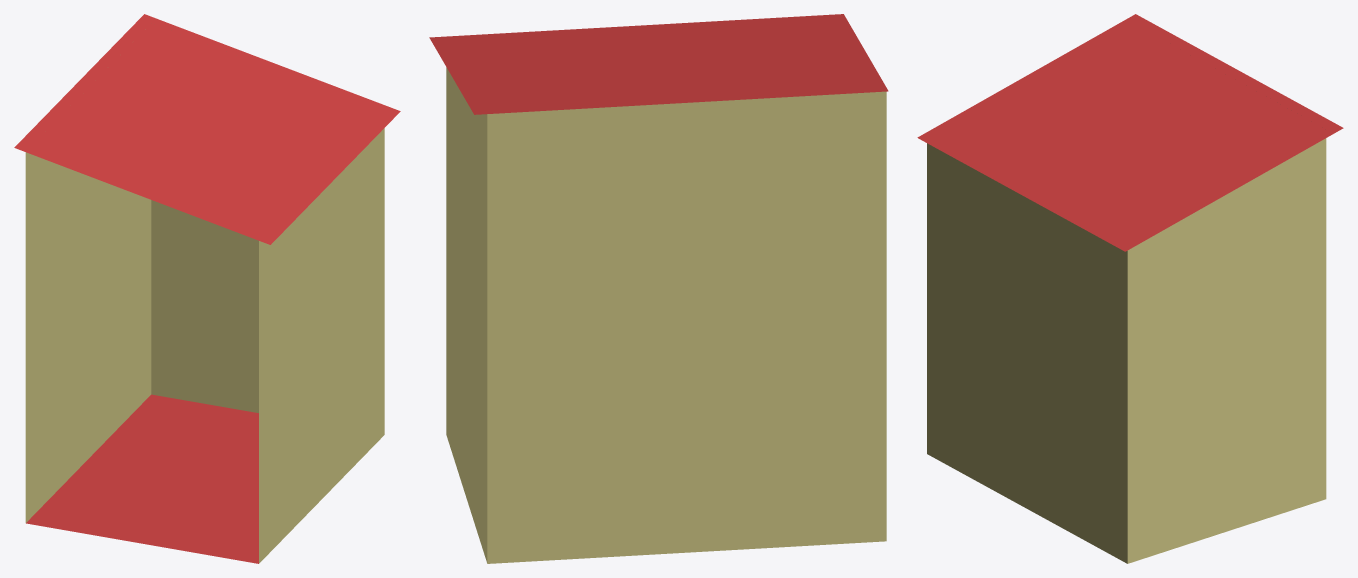
3 renders of one model, left to right at view 1: azimuth 30°, elevation 25°; view 2: azimuth 150°, elevation 25°; view 3: azimuth 270°, elevation 25°, orthographic. The views are drawn at different scales.
Size of the model in its own units: 8.8 by 8.56 by 8.23.
